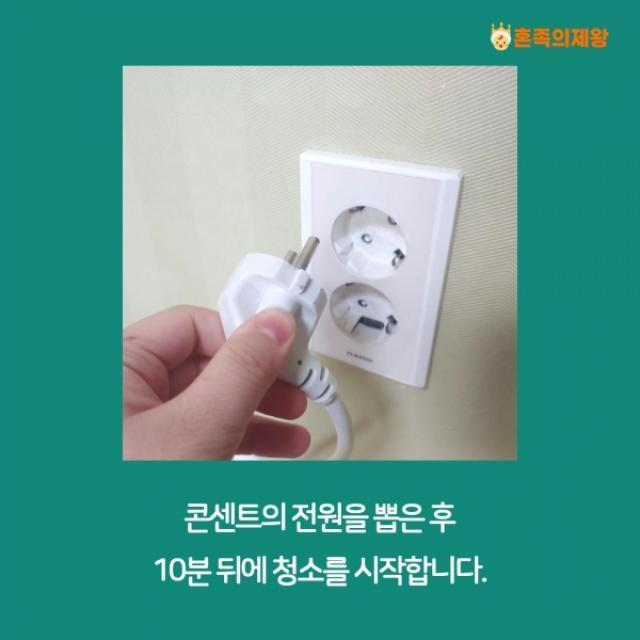typeb: (273, 149, 463, 395)
